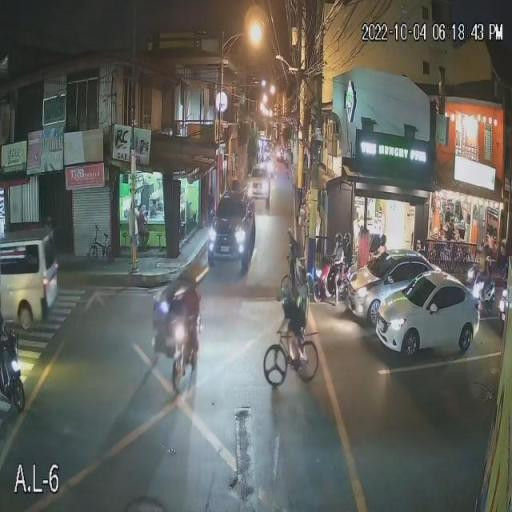helmet: (333, 233, 343, 245), (343, 233, 352, 246)
motorcycle: (153, 296, 198, 392), (0, 319, 28, 415), (307, 256, 348, 306), (464, 275, 496, 325), (490, 278, 512, 328)
rider: (167, 274, 202, 359), (278, 276, 309, 366), (327, 233, 354, 290), (470, 252, 496, 302)
